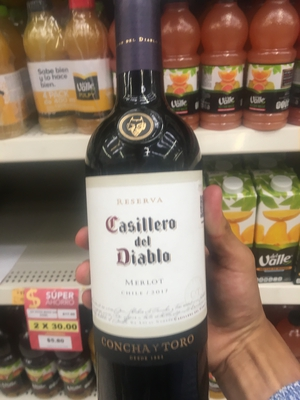casillero del diablo merlot: (73, 14, 217, 393)
